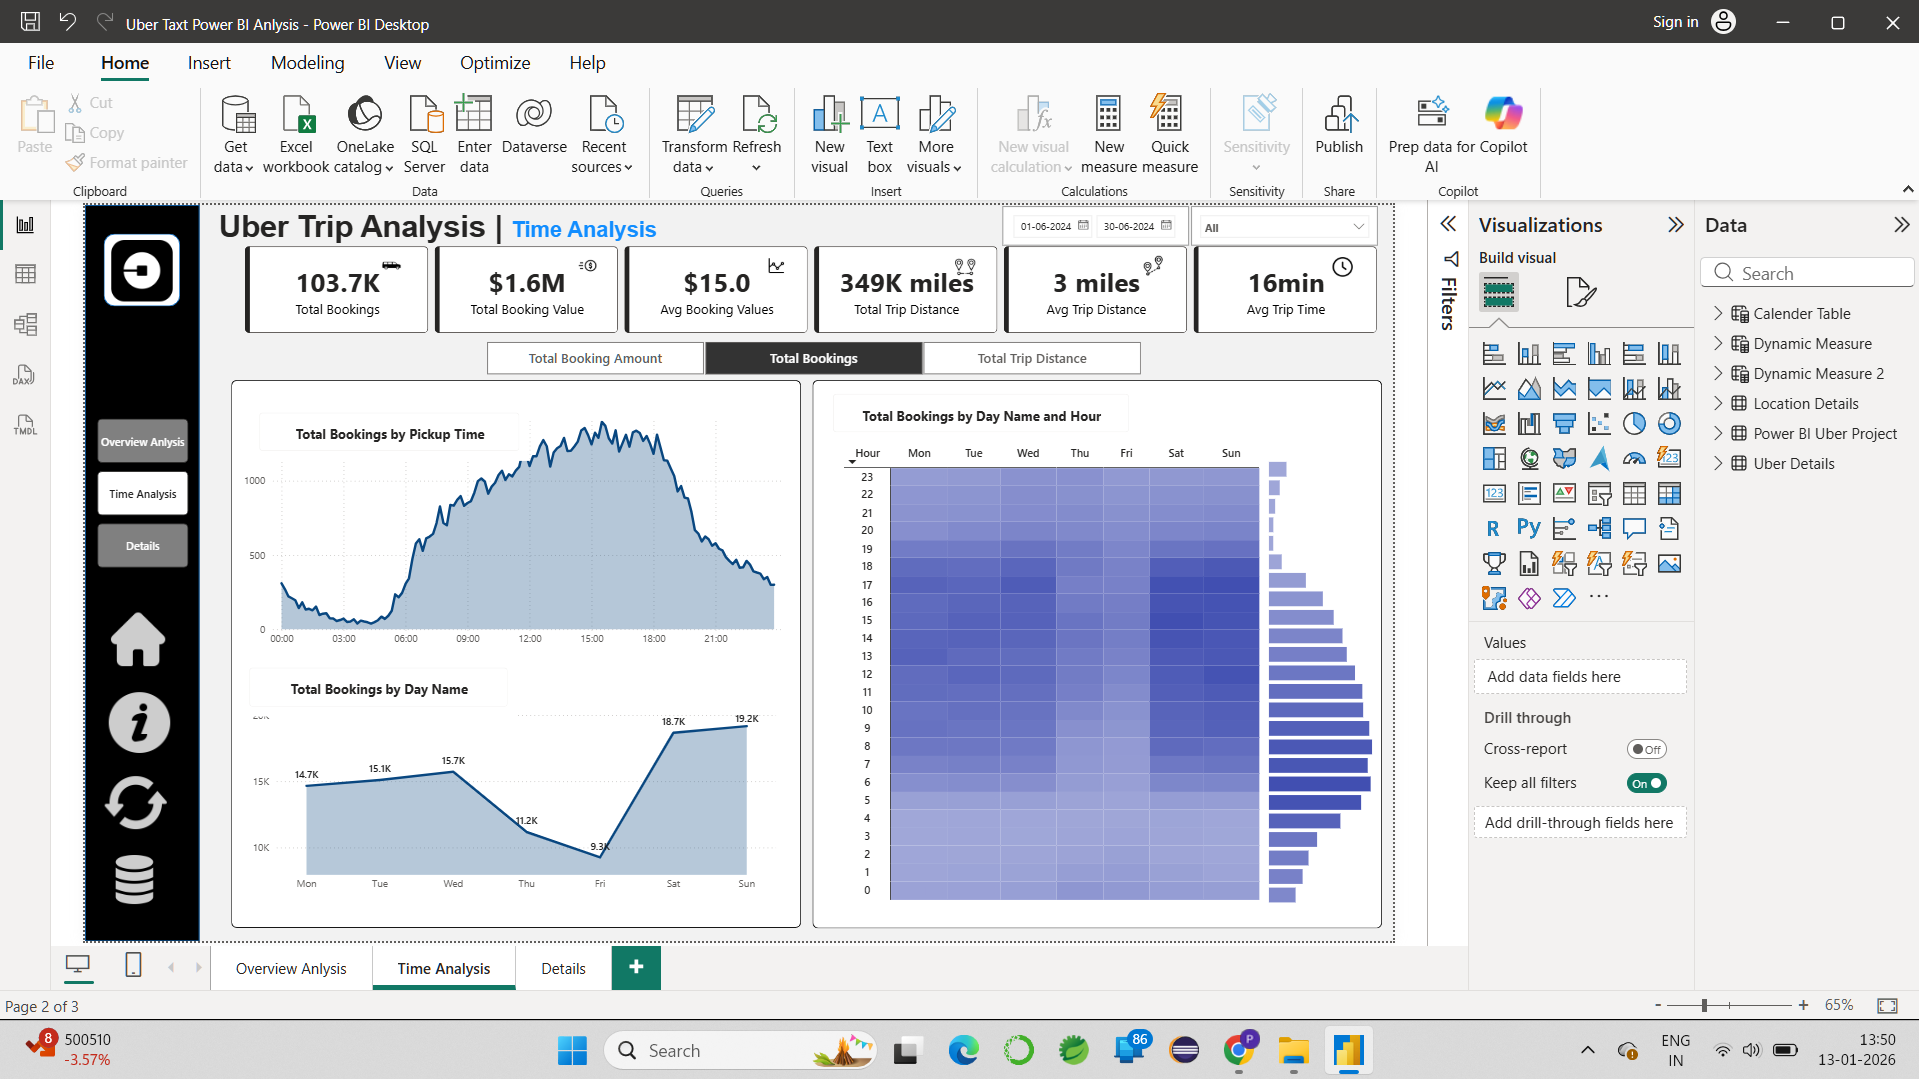

Layout of this report page (visuals, bound fields, positions):
{"tool":"powerbi","page":{"name":"Time Analysis","canvas":[1600,900],"ordinal":1},"visuals":[{"type":"shape","box":[0,0,140,900.3],"z":0},{"type":"textbox","box":[159,0,767.3,68.8],"z":1000},{"type":"cardVisual","fields":{"Data":["Uber Details.Total Bookings","Uber Details.Total Booking Amount","Uber Details.Avg Booking Amount","Uber Details.Total Trip Distance","Uber Details.Avg Trip Distance","Uber Details.Avg Trip Time"]},"box":[178.4,34.3,1422,140.7],"z":2000},{"type":"image","box":[603.8,56.6,21.4,35.2],"z":3000},{"type":"image","box":[1063.9,58.1,24.5,35.2],"z":4000},{"type":"image","box":[1294.7,56.6,24.5,35.2],"z":5000},{"type":"image","box":[1525.5,58.1,24.5,35.2],"z":6000},{"type":"image","box":[834.6,56.6,21.4,35.2],"z":7000},{"type":"shape","box":[178.3,213.3,696.7,670],"z":8000},{"type":"image","box":[362.3,56.6,24.5,35.2],"z":9000},{"type":"slicer","fields":{"Values":["Dynamic Measure.Dynamic Measure"]},"box":[465,160,850,53.3],"z":10000},{"type":"slicer","fields":{"Values":["Calender Table.Date"]},"box":[1121.7,1.7,228.3,48.3],"z":11000},{"type":"slicer","fields":{"Values":["Location Details.City"]},"box":[1353.3,1,228.3,48.3],"z":12000},{"type":"areaChart","fields":{"Y":["Uber Details.Total Bookings"],"Category":["Uber Details.Pickup Time (HH MM SS) (bins)"]},"box":[190,250,673.3,298.3],"z":13000},{"type":"cardVisual","fields":{"Data":["Uber Details.Title for by Pickup Time"]},"box":[189.5,226.2,348.5,76.4],"z":14000},{"type":"areaChart","fields":{"Y":["Uber Details.Total Bookings"],"Category":["Calender Table.Day Name"]},"box":[200.7,610.6,650.1,238.4],"z":15000},{"type":"cardVisual","fields":{"Data":["Uber Details.Title for a Day Name"]},"box":[188.7,548.9,346.5,77.2],"z":16000},{"type":"shape","box":[890.2,214.4,696.4,670.7],"z":17000},{"type":"pivotTable","fields":{"Values":["Uber Details.Total Bookings"],"Rows":["Uber Details.Pickup Hour"],"Columns":["Calender Table.Day Name"]},"box":[923.2,287.4,519.7,577.8],"z":18000},{"type":"barChart","fields":{"Y":["Uber Details.Total Bookings"],"Category":["Uber Details.Pickup Hour"]},"box":[1442.9,305.7,137.6,570.1],"z":19000},{"type":"cardVisual","fields":{"Data":["Uber Details.Title for by Pickup Time"]},"box":[199.5,236.2,348.5,76.4],"z":20000},{"type":"cardVisual","fields":{"Data":["Uber Details.Title by Hour and Day"]},"box":[901.8,214,392.8,76.4],"z":21000},{"type":"pageNavigator","box":[15.3,261.4,111.6,185],"z":22000},{"type":"group","id":"g1","title":"Group 1","box":[22.9,35.2,93.2,88.7],"z":23000},{"type":"image","box":[22.9,498.3,84.1,65.7],"z":24000},{"type":"image","box":[29,588.5,74.9,88.7],"z":25000},{"type":"image","box":[15.3,692.4,93.2,76.4],"z":26000},{"type":"image","box":[16.8,794.8,87.1,59.6],"z":27000},{"type":"shape","box":[22.9,35.2,93.2,88.7],"z":33000,"group":"g1"},{"type":"image","box":[32.1,42.8,74.9,74.9],"z":34000,"group":"g1"}]}

Visuals, with their boxes on the page's 1600x900 design canvas (x1, y1, x2, y2). These are canvas units, not pixel positions in the 1919x1079 screenshot, which may show the page scaled, cropped or inside an application window:
shape: {"left": 0, "top": 0, "right": 140, "bottom": 900}
textbox: {"left": 159, "top": 0, "right": 926, "bottom": 69}
cardVisual - Uber Details.Total Bookings x Uber Details.Total Booking Amount: {"left": 178, "top": 34, "right": 1600, "bottom": 175}
image: {"left": 604, "top": 57, "right": 625, "bottom": 92}
image: {"left": 1064, "top": 58, "right": 1088, "bottom": 93}
image: {"left": 1295, "top": 57, "right": 1319, "bottom": 92}
image: {"left": 1526, "top": 58, "right": 1550, "bottom": 93}
image: {"left": 835, "top": 57, "right": 856, "bottom": 92}
shape: {"left": 178, "top": 213, "right": 875, "bottom": 883}
image: {"left": 362, "top": 57, "right": 387, "bottom": 92}
slicer - Dynamic Measure.Dynamic Measure: {"left": 465, "top": 160, "right": 1315, "bottom": 213}
slicer - Calender Table.Date: {"left": 1122, "top": 2, "right": 1350, "bottom": 50}
slicer - Location Details.City: {"left": 1353, "top": 1, "right": 1582, "bottom": 49}
areaChart - Uber Details.Total Bookings x Uber Details.Pickup Time (HH MM SS) (bins): {"left": 190, "top": 250, "right": 863, "bottom": 548}
cardVisual - Uber Details.Title for by Pickup Time: {"left": 190, "top": 226, "right": 538, "bottom": 303}
areaChart - Uber Details.Total Bookings x Calender Table.Day Name: {"left": 201, "top": 611, "right": 851, "bottom": 849}
cardVisual - Uber Details.Title for a Day Name: {"left": 189, "top": 549, "right": 535, "bottom": 626}
shape: {"left": 890, "top": 214, "right": 1587, "bottom": 885}
pivotTable - Uber Details.Total Bookings x Uber Details.Pickup Hour: {"left": 923, "top": 287, "right": 1443, "bottom": 865}
barChart - Uber Details.Total Bookings x Uber Details.Pickup Hour: {"left": 1443, "top": 306, "right": 1580, "bottom": 876}
cardVisual - Uber Details.Title for by Pickup Time: {"left": 200, "top": 236, "right": 548, "bottom": 313}
cardVisual - Uber Details.Title by Hour and Day: {"left": 902, "top": 214, "right": 1295, "bottom": 290}
pageNavigator: {"left": 15, "top": 261, "right": 127, "bottom": 446}
"Group 1" group: {"left": 23, "top": 35, "right": 116, "bottom": 124}
image: {"left": 23, "top": 498, "right": 107, "bottom": 564}
image: {"left": 29, "top": 588, "right": 104, "bottom": 677}
image: {"left": 15, "top": 692, "right": 108, "bottom": 769}
image: {"left": 17, "top": 795, "right": 104, "bottom": 854}
shape: {"left": 23, "top": 35, "right": 116, "bottom": 124}
image: {"left": 32, "top": 43, "right": 107, "bottom": 118}
